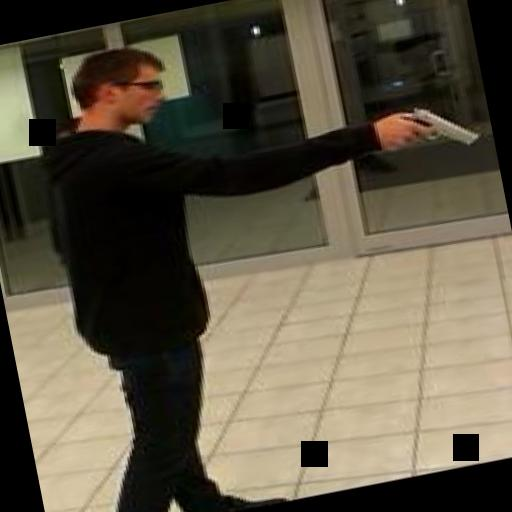Handgun: (384, 94, 476, 160)
